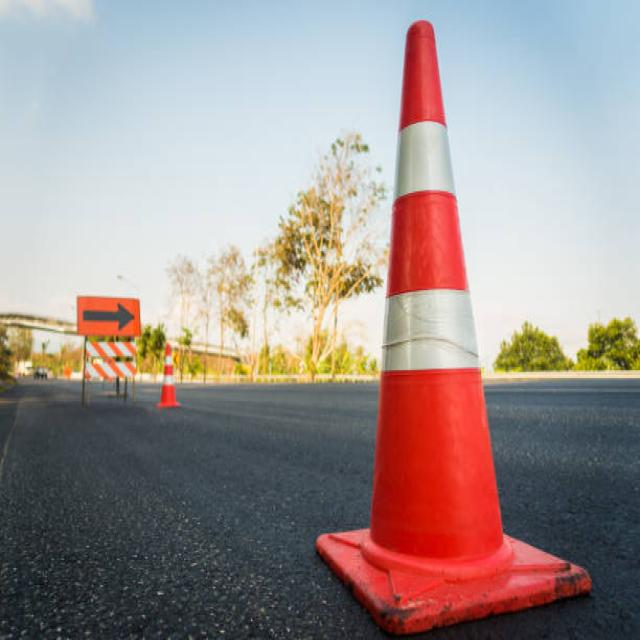Traffic Cone: (288, 0, 616, 640), (150, 333, 188, 418)
